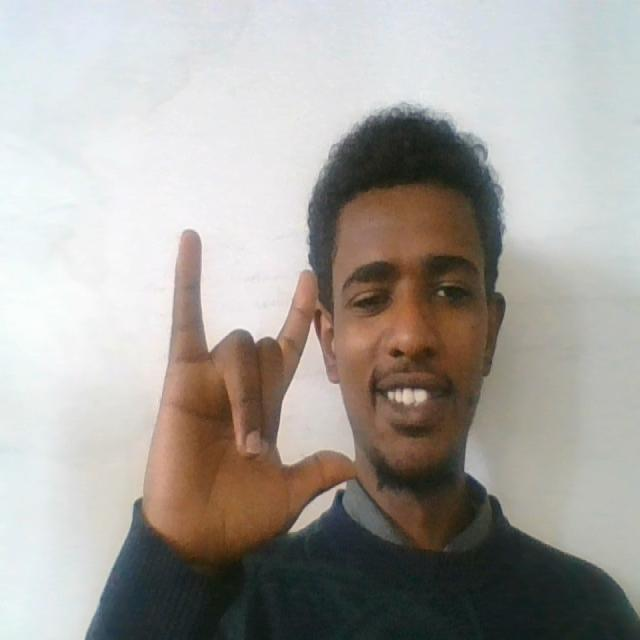iloveyou: (142, 214, 365, 561)
